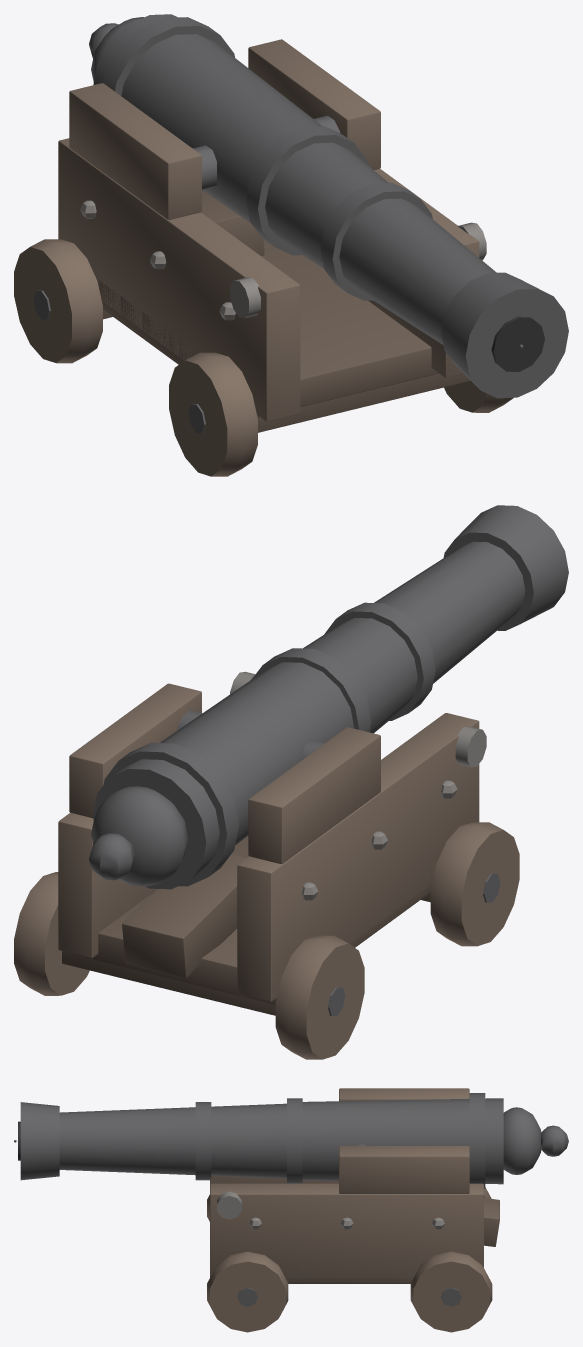
File: cannon.gltf
3 renders of one model, top to bottom at view 1: azimuth 30°, elevation 25°; view 2: azimuth 150°, elevation 25°; view 3: azimuth 270°, elevation 25°, orthographic. The views are drawn at different scales.
Visible parts, largest first — view 1: Body, Barrel; view 2: Body, Barrel; view 3: Body, Barrel.
Boxes of the visible parts, x1,y1,x2,y2 form: Body: [14, 39, 513, 476]; Barrel: [89, 14, 568, 398]; Body: [14, 671, 519, 1059]; Barrel: [89, 505, 568, 889]; Body: [207, 1088, 499, 1332]; Barrel: [18, 1093, 568, 1189].
Size of the model in its own units: 0.86 by 0.805 by 2.12.
